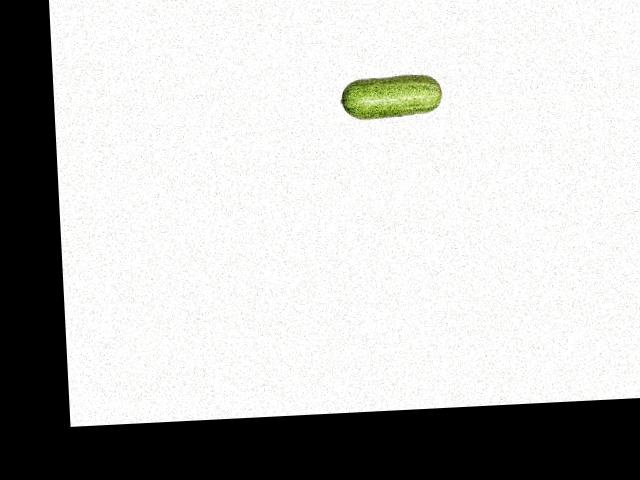cucumber: (339, 73, 442, 119)
